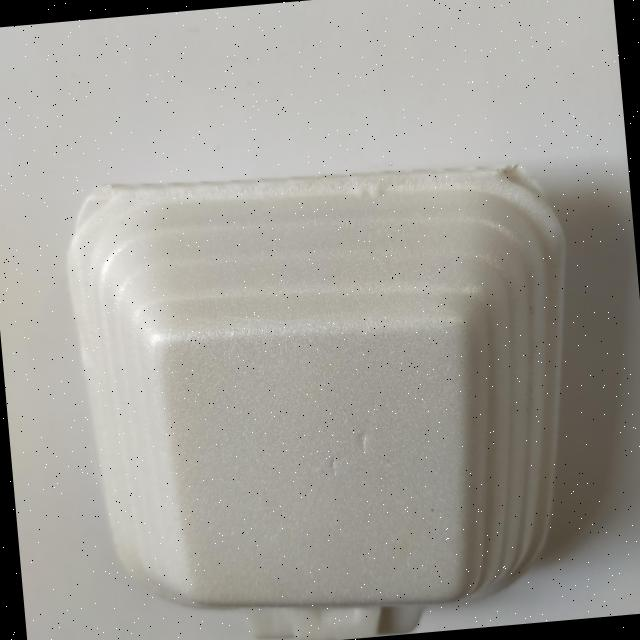styrofoam: (57, 141, 599, 640)
